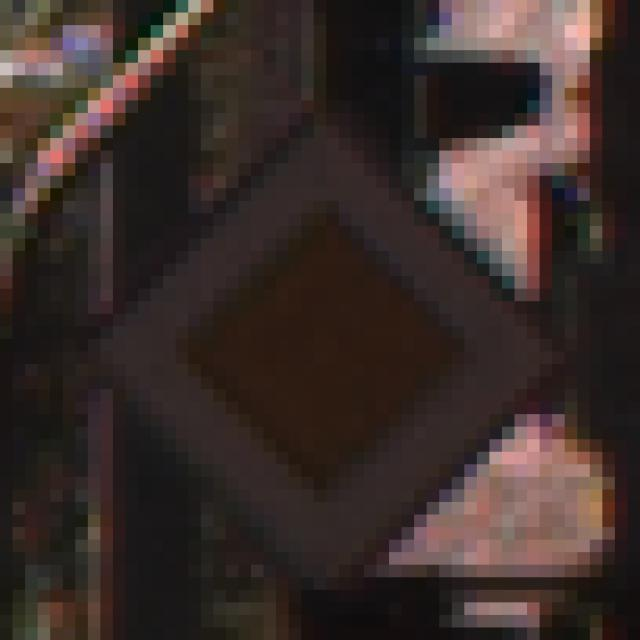Main Road: (77, 76, 579, 566)
